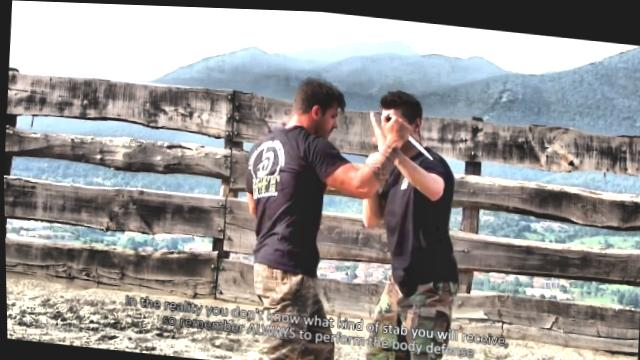knife: (377, 108, 438, 159)
